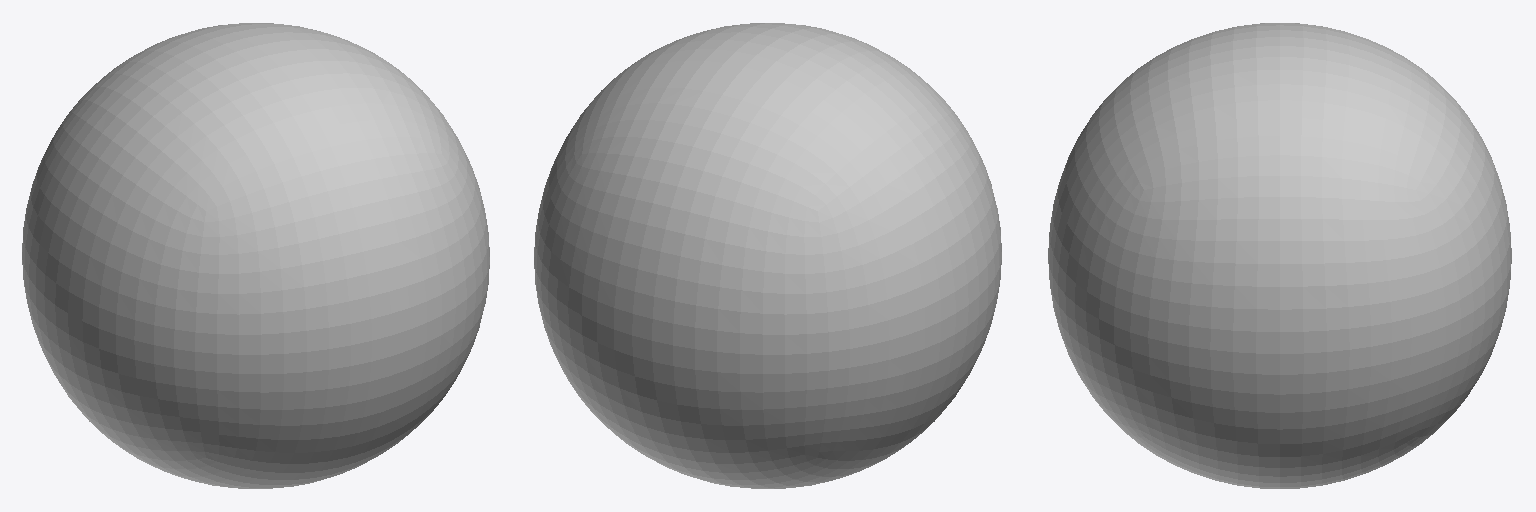
File: LightSphere.obj
3 views of the same model, side by side, from view 1: azimuth 30°, elevation 25°; view 2: azimuth 150°, elevation 25°; view 3: azimuth 270°, elevation 25° (orthographic).
Parts seen in each view (by area): view 1: Cube; view 2: Cube; view 3: Cube.
Boxes of the visible parts, x1=… form: Cube: x1=22, y1=23, x2=489, y2=488; Cube: x1=534, y1=23, x2=1001, y2=488; Cube: x1=1048, y1=23, x2=1511, y2=488.
Bounding box in the file's own units: 1.7 × 1.7 × 1.7.